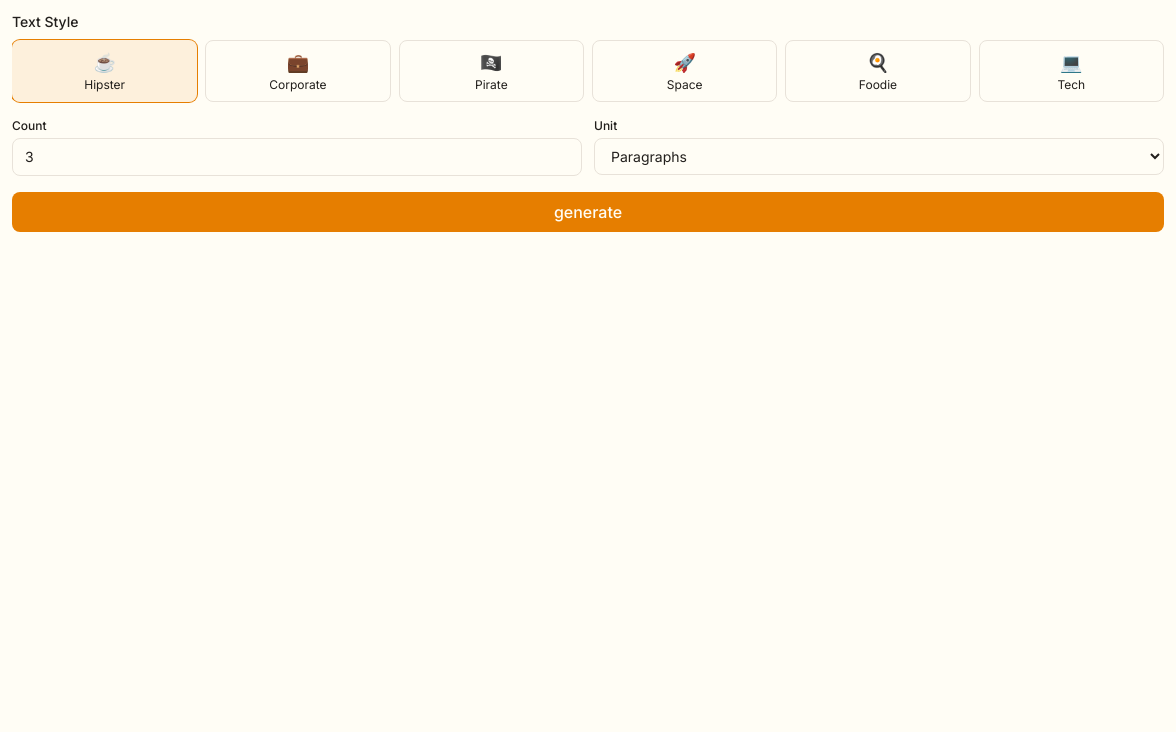
Scenario: LoremIpsumAlternative - Deep Tests › generates paragraphs by default
Click the button "generate" at (588,212), box [12,192,1164,232]
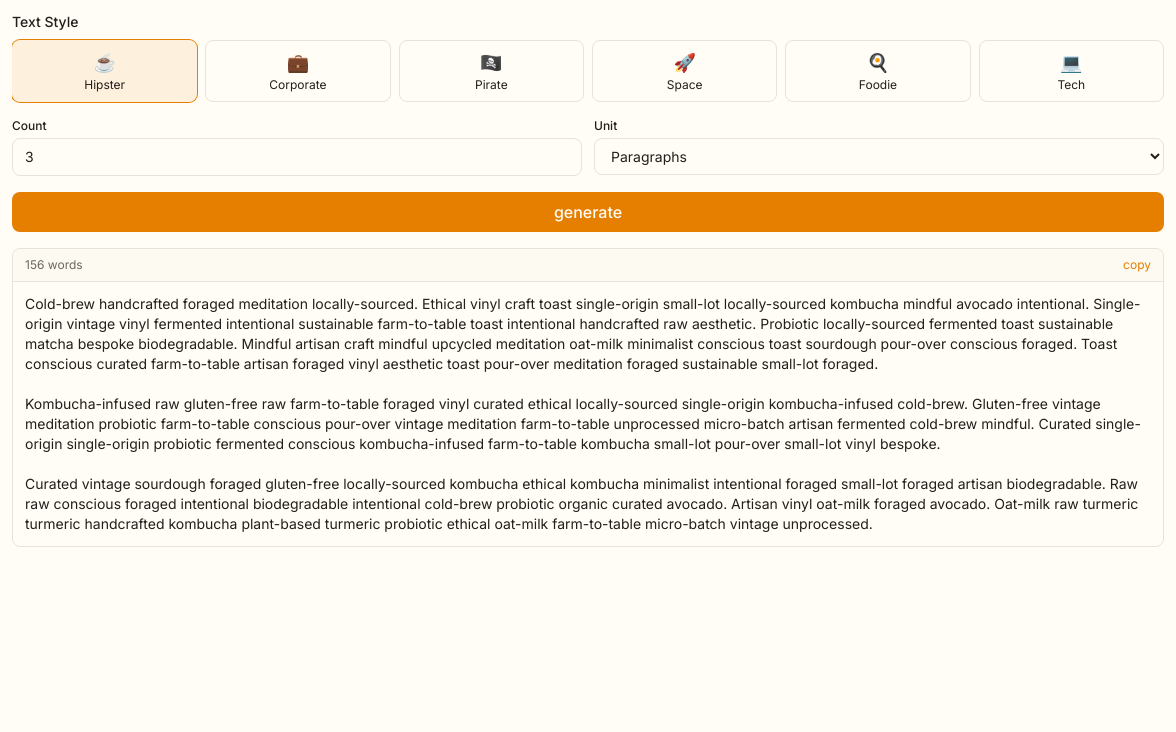
Expected: the text "." is shown, [13,282,1163,546]
